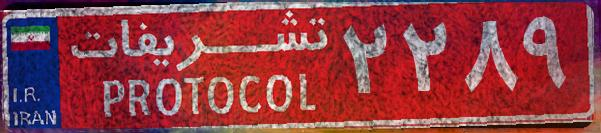2: (340, 20, 400, 115), (400, 20, 460, 115)
8: (460, 20, 520, 115)
9: (520, 20, 580, 115)
تشریفات: (60, 8, 340, 125)
